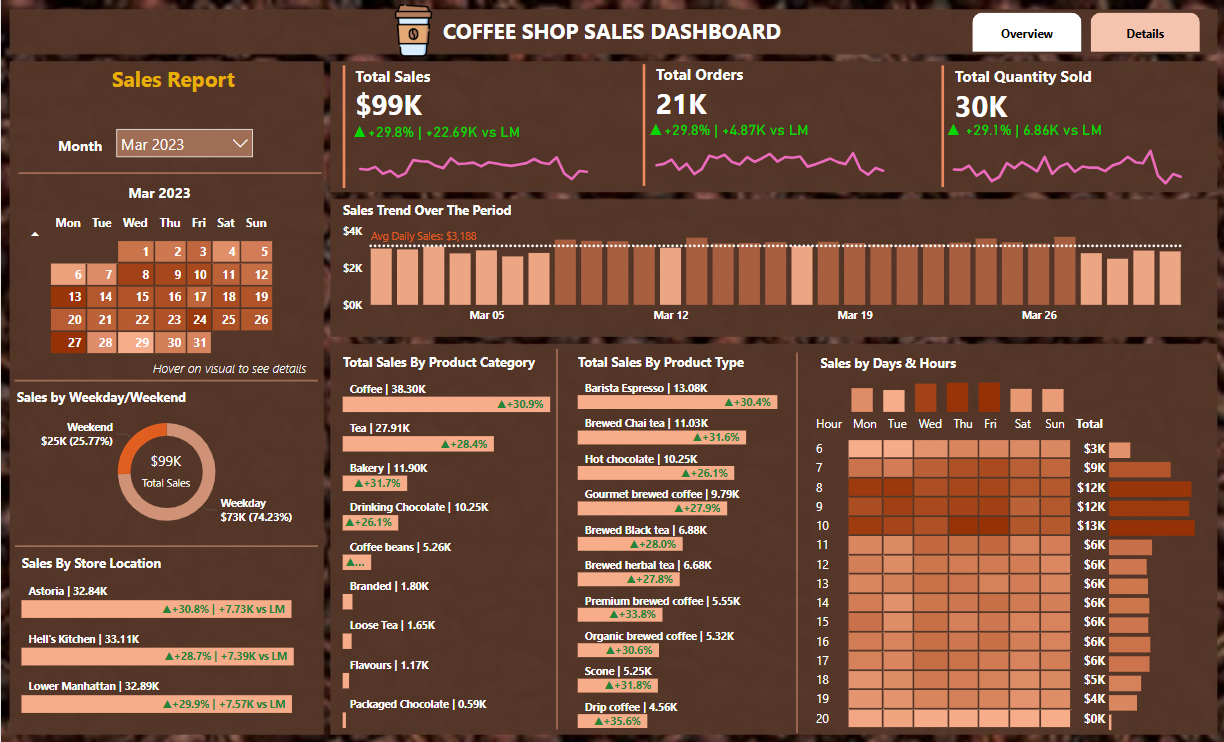

Layout of this report page (visuals, bound fields, positions):
{"tool":"powerbi","page":{"name":"Overview","canvas":[1400,850],"ordinal":0},"visuals":[{"type":"textbox","box":[499.9,14.2,421.6,55.5],"z":0},{"type":"cardVisual","fields":{"Data":["Measures Table.Total_sold_qty"]},"box":[1069.6,69.6,300.5,149.5],"z":0,"group":"g3"},{"type":"cardVisual","fields":{"Data":["Measures Table.Total Sales"]},"box":[385.2,69.6,290.6,151],"z":1000,"group":"g1"},{"type":"slicer","fields":{"Values":["Date Table.Month_Year"]},"box":[121.7,136.7,176.7,66.7],"z":1000},{"type":"lineChart","fields":{"Y":["Measures Table.Total Quantity Sold"],"Category":["Date Table.Date.Variation.Date Hierarchy.Year"]},"box":[1073.2,137.3,289.1,79.8],"z":1000,"group":"g3"},{"type":"group","id":"g1","title":"Group 1","box":[385.2,69.6,299.3,151.1],"z":2000},{"type":"group","id":"g2","title":"Group 2","box":[728.9,68.1,299.3,149.6],"z":3000},{"type":"cardVisual","fields":{"Data":["Measures Table.Total Orders"]},"box":[728.9,68.1,299.1,149.5],"z":3000,"group":"g2"},{"type":"lineChart","fields":{"Category":["Date Table.Date.Variation.Date Hierarchy.Year"],"Y":["Measures Table.Total Sales"]},"box":[394.6,139.7,289.1,81.2],"z":3000,"group":"g1"},{"type":"group","id":"g3","title":"Group 3","box":[1069.6,69.6,300.7,148.1],"z":4000},{"type":"lineChart","fields":{"Y":["Measures Table.Total Orders"],"Category":["Date Table.Date.Variation.Date Hierarchy.Year"]},"box":[735,136.2,289.1,79.8],"z":4000,"group":"g2"},{"type":"pivotTable","fields":{"Rows":["Date Table.Week Number"],"Columns":["Date Table.Day Name"],"Values":["Sum(Date Table.Day)"]},"box":[24.2,236.4,295,180],"z":5000,"group":"g5"},{"type":"shape","box":[15,410,346.7,50],"z":5000},{"type":"shape","box":[20,173.3,346.7,50],"z":6000},{"type":"card","fields":{"Values":["Min(Date Table.Month_Year)"]},"box":[136.4,204.1,88.3,35.6],"z":6000,"group":"g5"},{"type":"card","fields":{"Values":["Measures Table.Foot Note"]},"box":[167.5,406.4,188.3,23.3],"z":7000,"group":"g5"},{"type":"shape","box":[15,600,346.7,48.3],"z":7000},{"type":"group","id":"g4","title":"Group 4","box":[13.3,443.1,353.3,173.3],"z":8000},{"type":"group","id":"g5","title":"Group 5","box":[24.2,204.1,331.7,225.6],"z":9000},{"type":"donutChart","title":"Sales by Weekday/Weekend","fields":{"Category":["Date Table.Weekday/Weekend"],"Y":["Measures Table.Total Sales"]},"box":[13.3,443.1,353.3,173.3],"z":10000,"group":"g4"},{"type":"clusteredBarChart","title":"Sales By Store Location","fields":{"Category":["Transactions.store_location"],"Y":["Measures Table.Placeholder","Measures Table.Total Sales"]},"box":[18.3,633.3,348.3,190],"z":10000},{"type":"clusteredColumnChart","title":"Sales Trend Over The Period","fields":{"Category":["Transactions.transaction_date"],"Y":["Measures Table.Total Sales"]},"box":[385.7,230,975.7,148.6],"z":11000},{"type":"clusteredBarChart","title":"Total Sales By Product Category","fields":{"Category":["Transactions.product_category"],"Y":["Measures Table.Placeholder","Measures Table.Total Sales"]},"box":[385,403.3,273.3,435],"z":12000},{"type":"card","fields":{"Values":["Measures Table.Total Sales"]},"box":[148.3,511.4,80,50],"z":12000,"group":"g4"},{"type":"clusteredBarChart","title":"Total Sales By Product Type","fields":{"Category":["Transactions.product_type"],"Y":["Measures Table.Placeholder","Measures Table.Total Sales"]},"box":[655,403.3,266.7,435],"z":13000},{"type":"shape","box":[613.3,398.3,45,435],"z":14000},{"type":"shape","box":[886.7,403.3,45,435],"z":15000},{"type":"pivotTable","title":"Sales by Days&Hours","fields":{"Rows":["Transactions.Hour"],"Columns":["Date Table.Day Name"],"Values":["Measures Table.Total Sales"]},"box":[921.7,468.3,365,370],"z":16000},{"type":"textbox","box":[60,150,88.3,48.3],"z":17000},{"type":"clusteredBarChart","fields":{"Y":["Measures Table.Total Sales"],"Category":["Transactions.Hour"]},"box":[1261.5,493.6,127.2,346.7],"z":17000,"group":"g6"},{"type":"textbox","box":[121.1,68.4,166.6,51.3],"z":18000},{"type":"clusteredColumnChart","fields":{"Y":["Measures Table.Total Sales"],"Category":["Date Table.Day Name"]},"box":[967.9,415.6,253.5,61.2],"z":18000,"group":"g6"},{"type":"image","box":[421.6,0,99.7,69.8],"z":19000},{"type":"textbox","box":[931.5,400.2,177.6,40],"z":19000,"group":"g6"},{"type":"group","id":"g6","title":"Group 6","box":[931.5,400.2,457.2,440.1],"z":20000},{"type":"pageNavigator","box":[1110,14.3,261.4,45.7],"z":21000}]}

Visuals, with their boxes in screenshot pixels (x1, y1, x2, y2), scaled from the page's 1400x850 canvas onto the 1224x742 screenshot:
textbox: (left=437, top=12, right=806, bottom=61)
cardVisual - Measures Table.Total_sold_qty: (left=935, top=61, right=1198, bottom=191)
cardVisual - Measures Table.Total Sales: (left=337, top=61, right=591, bottom=193)
slicer - Date Table.Month_Year: (left=106, top=119, right=261, bottom=178)
lineChart - Measures Table.Total Quantity Sold x Date Table.Date.Variation.Date Hierarchy.Year: (left=938, top=120, right=1191, bottom=190)
"Group 1" group: (left=337, top=61, right=598, bottom=193)
"Group 2" group: (left=637, top=59, right=899, bottom=190)
cardVisual - Measures Table.Total Orders: (left=637, top=59, right=899, bottom=190)
lineChart - Date Table.Date.Variation.Date Hierarchy.Year x Measures Table.Total Sales: (left=345, top=122, right=598, bottom=193)
"Group 3" group: (left=935, top=61, right=1198, bottom=190)
lineChart - Measures Table.Total Orders x Date Table.Date.Variation.Date Hierarchy.Year: (left=643, top=119, right=895, bottom=189)
pivotTable - Date Table.Week Number x Date Table.Day Name: (left=21, top=206, right=279, bottom=363)
shape: (left=13, top=358, right=316, bottom=402)
shape: (left=17, top=151, right=321, bottom=195)
card - Min(Date Table.Month_Year): (left=119, top=178, right=196, bottom=209)
card - Measures Table.Foot Note: (left=146, top=355, right=311, bottom=375)
shape: (left=13, top=524, right=316, bottom=566)
"Group 4" group: (left=12, top=387, right=321, bottom=538)
"Group 5" group: (left=21, top=178, right=311, bottom=375)
"Sales by Weekday/Weekend" donutChart: (left=12, top=387, right=321, bottom=538)
"Sales By Store Location" clusteredBarChart: (left=16, top=553, right=321, bottom=719)
"Sales Trend Over The Period" clusteredColumnChart: (left=337, top=201, right=1190, bottom=330)
"Total Sales By Product Category" clusteredBarChart: (left=337, top=352, right=576, bottom=732)
card - Measures Table.Total Sales: (left=130, top=446, right=200, bottom=490)
"Total Sales By Product Type" clusteredBarChart: (left=573, top=352, right=806, bottom=732)
shape: (left=536, top=348, right=576, bottom=727)
shape: (left=775, top=352, right=815, bottom=732)
"Sales by Days&Hours" pivotTable: (left=806, top=409, right=1125, bottom=732)
textbox: (left=52, top=131, right=130, bottom=173)
clusteredBarChart - Measures Table.Total Sales x Transactions.Hour: (left=1103, top=431, right=1214, bottom=734)
textbox: (left=106, top=60, right=252, bottom=104)
clusteredColumnChart - Measures Table.Total Sales x Date Table.Day Name: (left=846, top=363, right=1068, bottom=416)
image: (left=369, top=0, right=456, bottom=61)
textbox: (left=814, top=349, right=970, bottom=384)
"Group 6" group: (left=814, top=349, right=1214, bottom=734)
pageNavigator: (left=970, top=12, right=1199, bottom=52)
